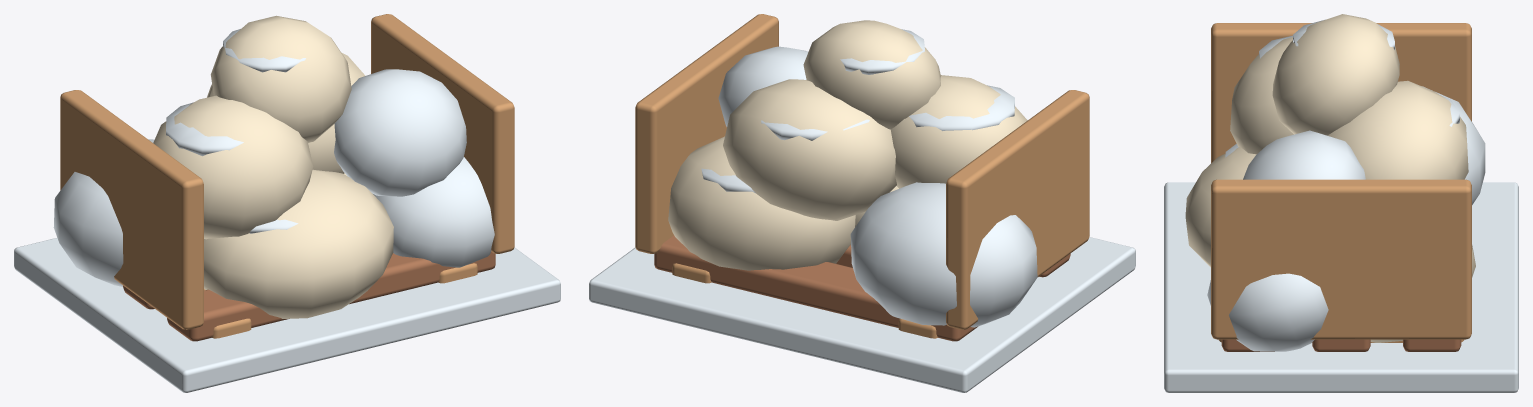
The model's file is stone_stack.glb.
The picture shows the model from 3 angles, left to right: view 1: azimuth 30°, elevation 25°; view 2: azimuth 150°, elevation 25°; view 3: azimuth 270°, elevation 25°; orthographic projection. The views are drawn at different scales.
Parts seen in each view (by area): view 1: stone_stack; view 2: stone_stack; view 3: stone_stack.
Boxes of the visible parts, x1,y1,x2,y2 form: stone_stack: (14,14,560,392); stone_stack: (589,14,1135,392); stone_stack: (1164,14,1518,392).
Bounding box in the file's own units: 1.75 × 1.15 × 1.36.
